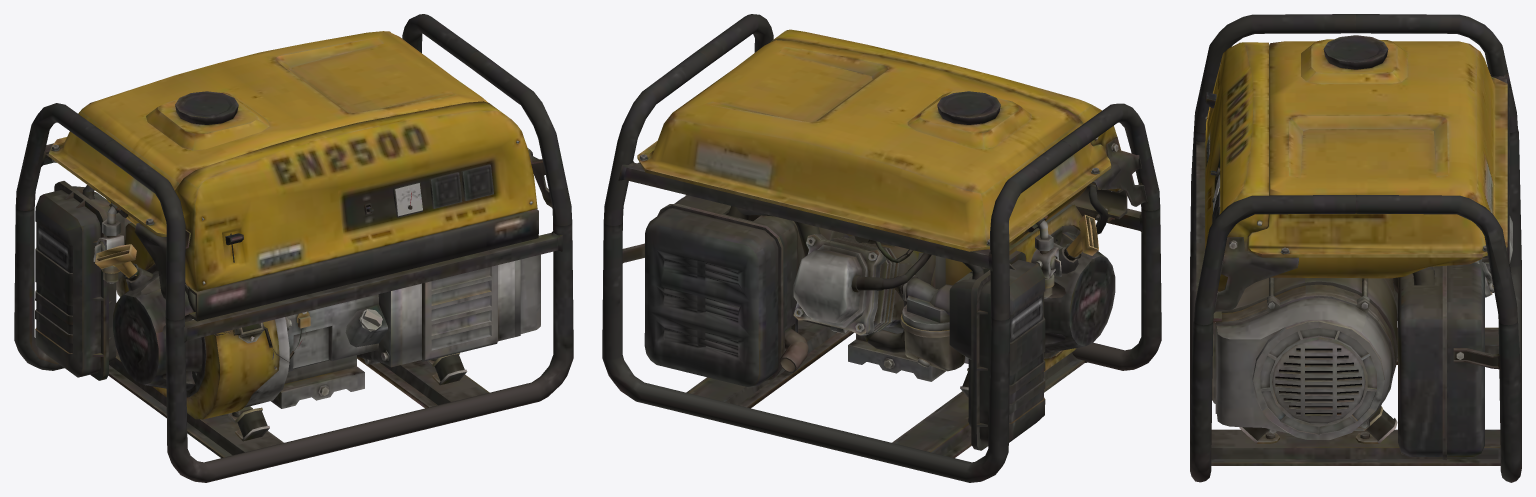
Rendered from portable_generator.glb.
3 views of the same model, side by side, from view 1: azimuth 30°, elevation 25°; view 2: azimuth 150°, elevation 25°; view 3: azimuth 270°, elevation 25° (orthographic).
Parts seen in each view (by area): view 1: portable_generator; view 2: portable_generator; view 3: portable_generator.
Part boxes in pixels (x1=…): portable_generator: x1=14, y1=14, x2=573, y2=482; portable_generator: x1=602, y1=14, x2=1161, y2=482; portable_generator: x1=1190, y1=14, x2=1521, y2=482.
Bounding box in the file's own units: 0.8169 × 0.5752 × 0.564.
2 materials, 2 textured.
